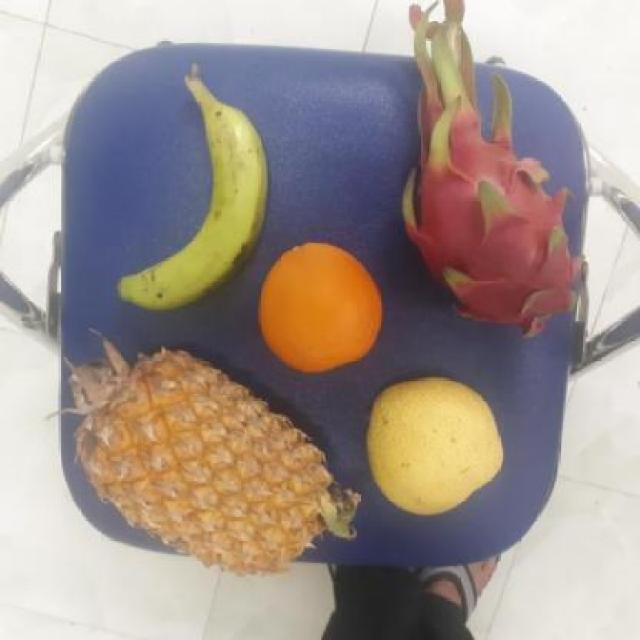banana: (125, 87, 266, 310)
dragon fruit: (387, 71, 585, 338)
oren: (254, 242, 384, 373)
pear: (357, 378, 509, 516)
pineapple: (55, 348, 343, 580)
